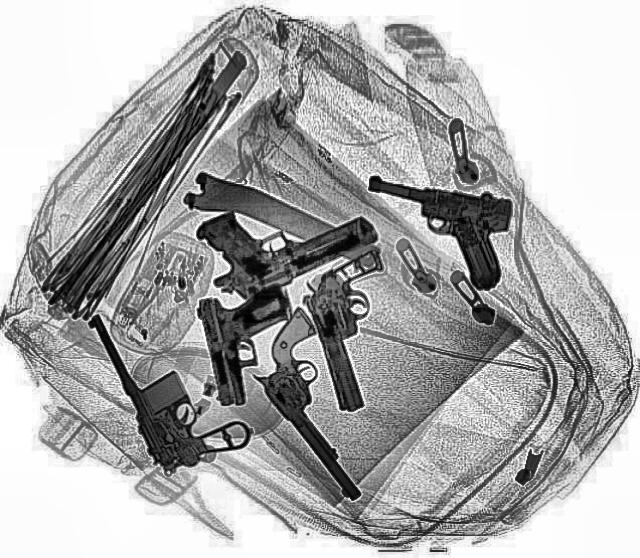Gun: (221, 304, 421, 502), (80, 287, 258, 479), (177, 165, 381, 308), (341, 171, 523, 291), (290, 249, 422, 413), (192, 282, 310, 408)
